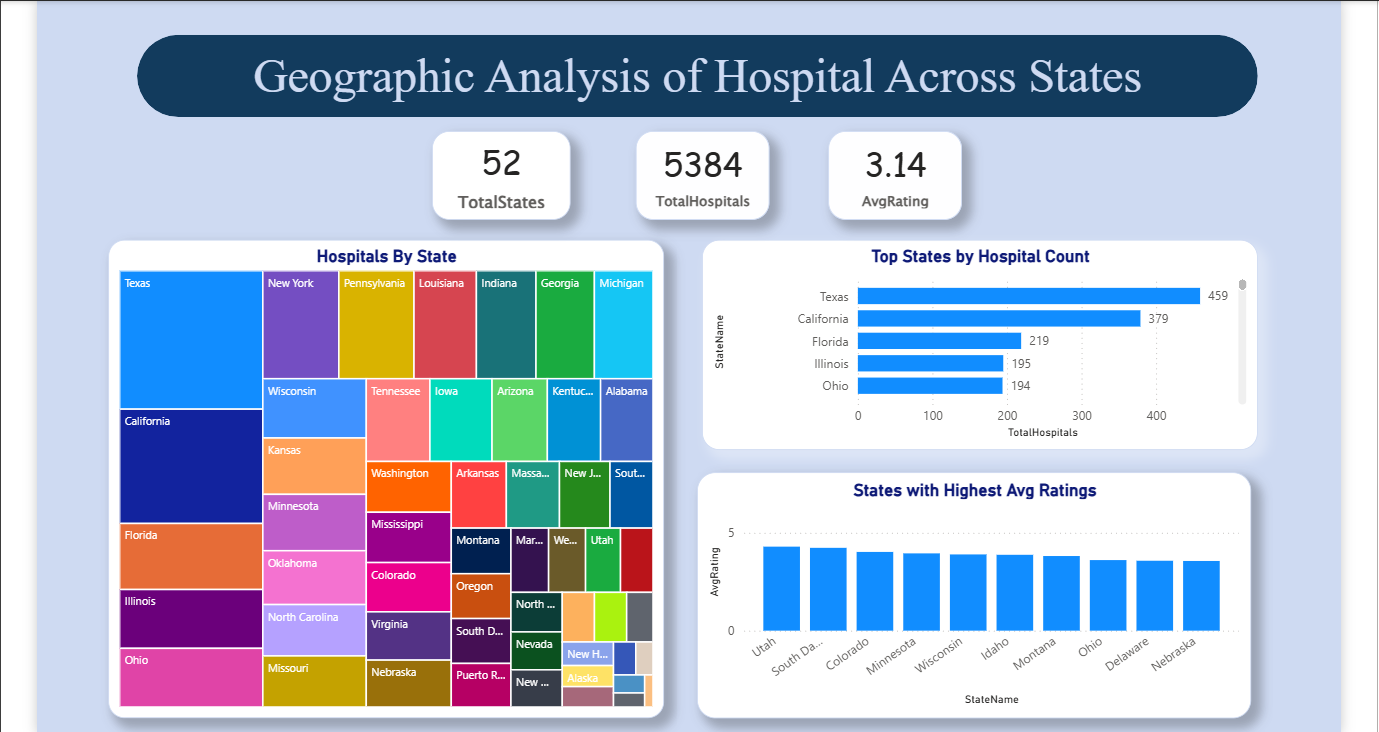

This screenshot's page, from the dashboard's own definition file:
{"tool":"powerbi","page":{"name":"Geographic Analysis","canvas":[1280,720],"ordinal":1},"visuals":[{"type":"treemap","title":"Hospitals By State","fields":{"Group":["Dim_State.StateName"],"Values":["Hospital.TotalHospitals"]},"box":[70,234,545.3,469.3],"z":0},{"type":"clusteredBarChart","title":"Top States by Hospital Count","fields":{"Category":["Dim_State.StateName"],"Y":["Hospital.TotalHospitals"]},"box":[652.7,234,545.3,206.3],"z":1000},{"type":"clusteredColumnChart","title":"States with Highest Avg Ratings","fields":{"Category":["Dim_State.StateName"],"Y":["Hospital.AvgRating"]},"box":[647.9,462.1,544.1,241.3],"z":2000},{"type":"shape","title":"HOSPITAL PERFORMANCE OVERVIEW","box":[97.7,32.6,1100.3,80.8],"z":3000},{"type":"card","fields":{"Values":["Dim_State.TotalStates"]},"box":[387.3,127.9,136.3,86.9],"z":4000},{"type":"card","fields":{"Values":["DAX_Measures.TotalHospitals"]},"box":[587.5,127.9,131.5,86.9],"z":5000},{"type":"card","fields":{"Values":["DAX_Measures.AvgRating"]},"box":[776.9,127.9,131.5,86.9],"z":6000}]}

Visuals, with their boxes on the page's 1280x720 design canvas (x1, y1, x2, y2). These are canvas units, not pixel positions in the 1379x732 screenshot, which may show the page scaled, cropped or inside an application window:
"Hospitals By State" treemap: bbox(70, 234, 615, 703)
"Top States by Hospital Count" clusteredBarChart: bbox(653, 234, 1198, 440)
"States with Highest Avg Ratings" clusteredColumnChart: bbox(648, 462, 1192, 703)
"HOSPITAL PERFORMANCE OVERVIEW" shape: bbox(98, 33, 1198, 113)
card - Dim_State.TotalStates: bbox(387, 128, 524, 215)
card - DAX_Measures.TotalHospitals: bbox(588, 128, 719, 215)
card - DAX_Measures.AvgRating: bbox(777, 128, 908, 215)
